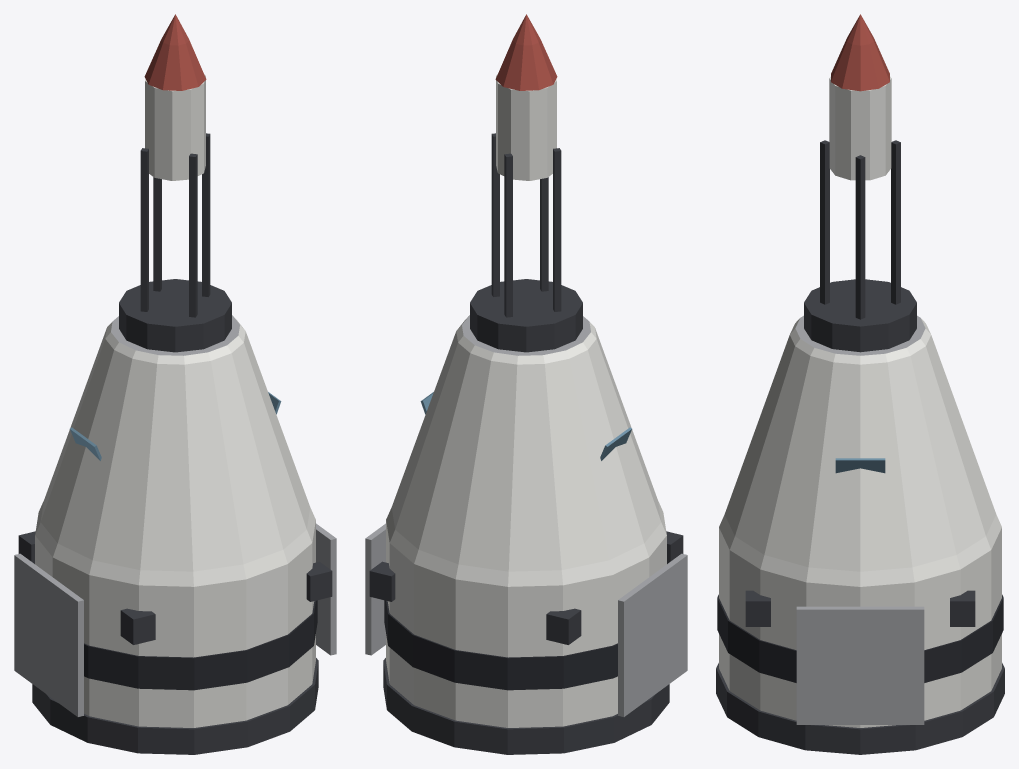
The model's file is Head_Capsule_M.fbx.
3 views of the same model, side by side, from view 1: azimuth 30°, elevation 25°; view 2: azimuth 150°, elevation 25°; view 3: azimuth 270°, elevation 25° (orthographic).
Parts seen in each view (by area): view 1: Head_Capsule_M; view 2: Head_Capsule_M; view 3: Head_Capsule_M.
Boxes of the visible parts, x1,y1,x2,y2 form: Head_Capsule_M: [14, 14, 336, 754]; Head_Capsule_M: [365, 14, 687, 754]; Head_Capsule_M: [716, 14, 1004, 754].
Bounding box in the file's own units: 2.11 × 5.3 × 2.04.
1 material, 1 textured.
